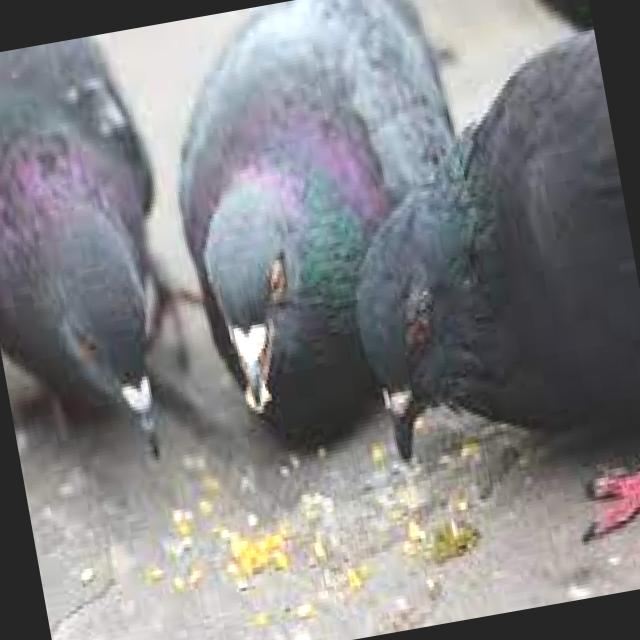bird: (310, 12, 640, 612), (144, 0, 513, 480), (0, 29, 200, 486)
